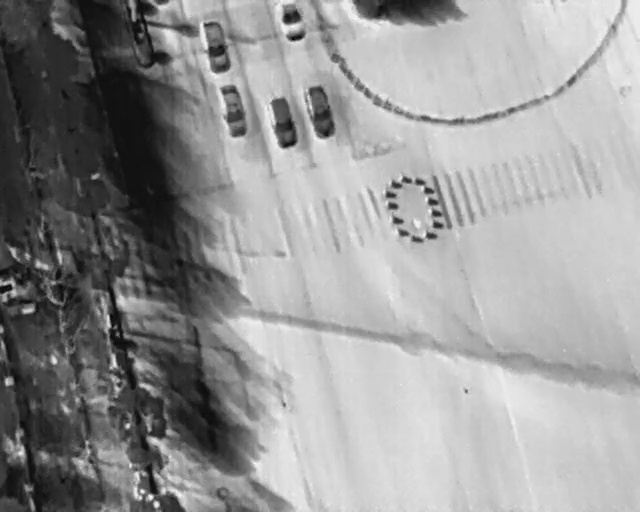Car: (300, 82, 338, 142), (263, 94, 301, 151), (198, 19, 233, 75), (217, 82, 250, 139), (276, 1, 308, 42)
